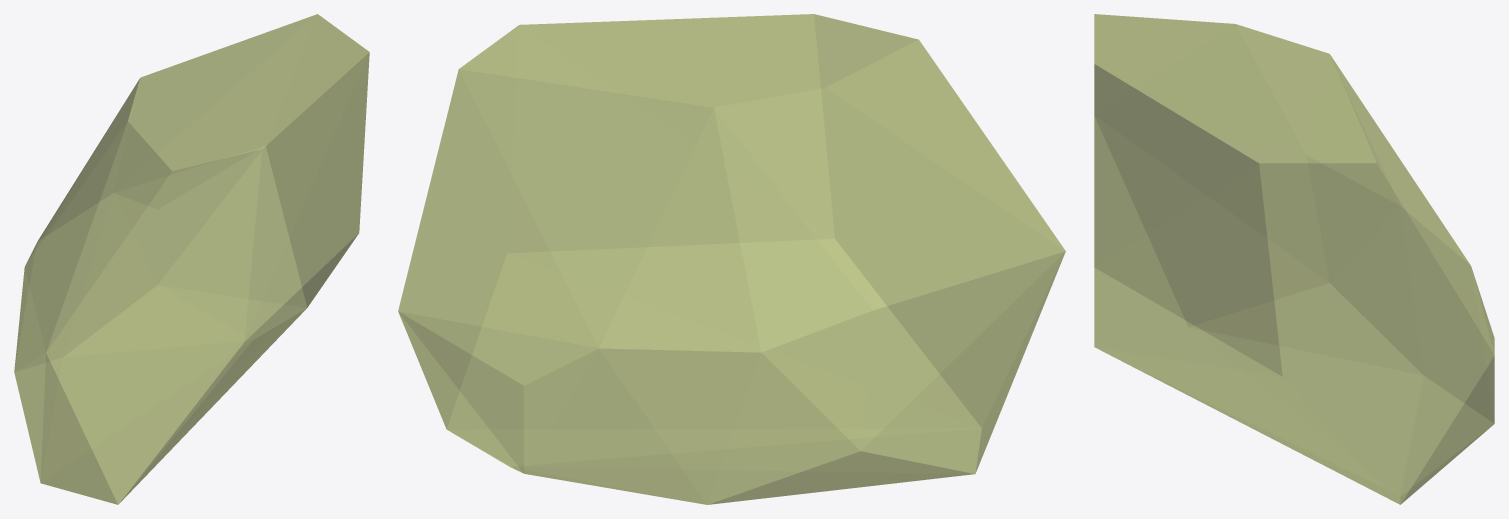
3 views of the same model, side by side, from view 1: azimuth 30°, elevation 25°; view 2: azimuth 150°, elevation 25°; view 3: azimuth 270°, elevation 25° (orthographic). The views are drawn at different scales.
Visible parts, largest first — view 1: Shape_IndexedFaceSet.002_Shape_IndexedFaceSet.4821; view 2: Shape_IndexedFaceSet.002_Shape_IndexedFaceSet.4821; view 3: Shape_IndexedFaceSet.002_Shape_IndexedFaceSet.4821.
Part boxes in pixels (<box>): Shape_IndexedFaceSet.002_Shape_IndexedFaceSet.4821: <box>14,14,369,504</box>; Shape_IndexedFaceSet.002_Shape_IndexedFaceSet.4821: <box>398,14,1065,504</box>; Shape_IndexedFaceSet.002_Shape_IndexedFaceSet.4821: <box>1094,14,1494,504</box>.
Size of the model in its own units: 0.2008 by 0.1552 by 0.1551.
